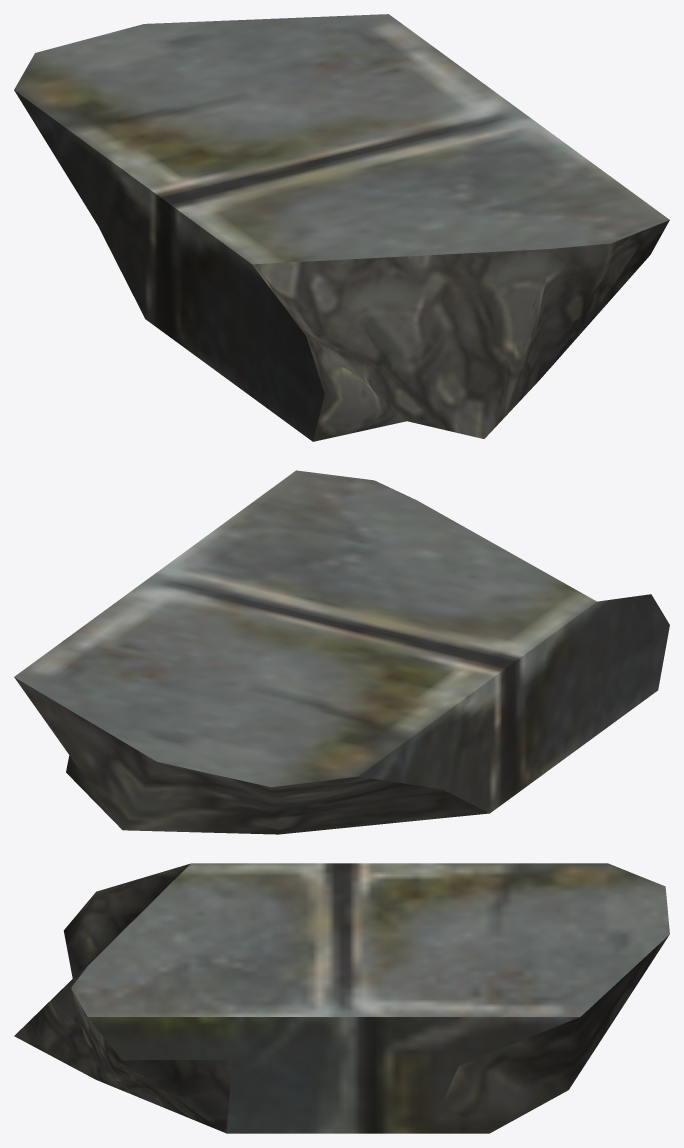
Rendered from F_fushou014.fbx.
The picture shows the model from 3 angles, top to bottom: view 1: azimuth 30°, elevation 25°; view 2: azimuth 150°, elevation 25°; view 3: azimuth 270°, elevation 25°; orthographic projection. The views are drawn at different scales.
Visible parts, largest first — view 1: F_fushou014; view 2: F_fushou014; view 3: F_fushou014.
Boxes of the visible parts, x1,y1,x2,y2 form: F_fushou014: (14, 14, 669, 441); F_fushou014: (14, 470, 669, 834); F_fushou014: (14, 863, 669, 1133).
Size of the model in its own units: 29.75 by 10.54 by 53.74.
